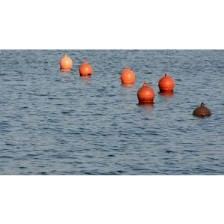buoy: (137, 86, 155, 104), (158, 76, 174, 92), (192, 105, 211, 118), (120, 69, 135, 84), (77, 62, 92, 76), (60, 57, 72, 68)
